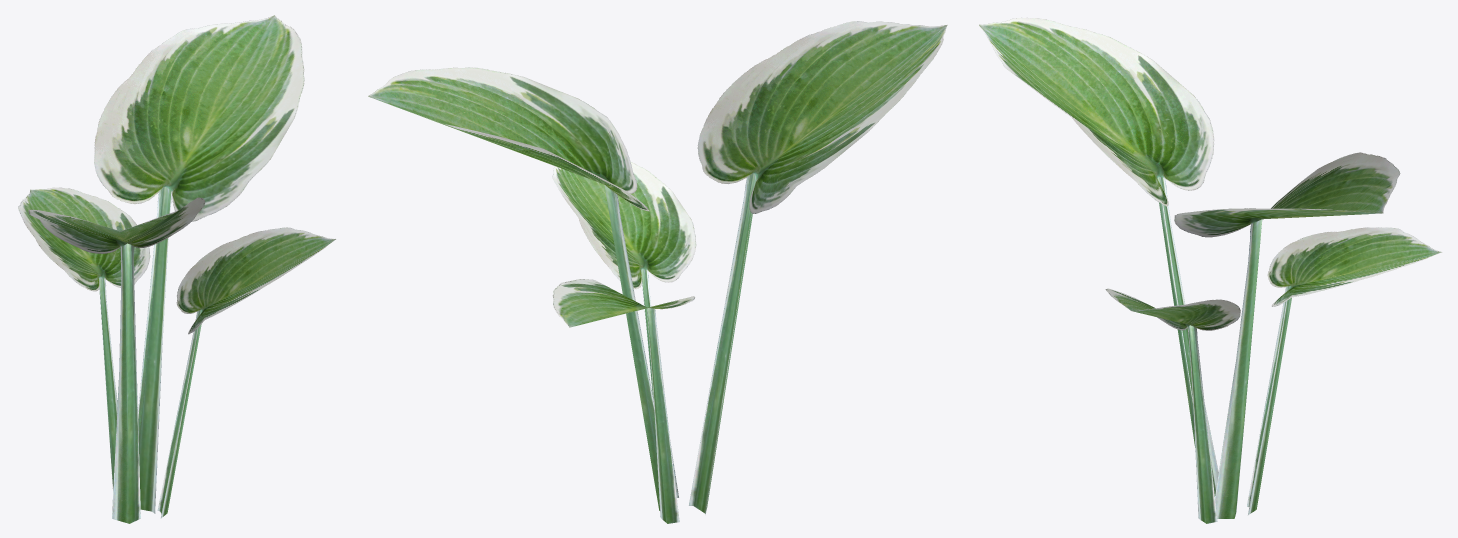
The model's file is plant_small_wg_05A.fbx.
3 views of the same model, side by side, from view 1: azimuth 30°, elevation 25°; view 2: azimuth 150°, elevation 25°; view 3: azimuth 270°, elevation 25° (orthographic). The views are drawn at different scales.
Parts seen in each view (by area): view 1: plant_small_wg_05A; view 2: plant_small_wg_05A; view 3: plant_small_wg_05A.
Boxes of the visible parts, x1,y1,x2,y2 form: plant_small_wg_05A: [18, 15, 335, 523]; plant_small_wg_05A: [368, 21, 947, 523]; plant_small_wg_05A: [979, 17, 1441, 523].
Bounding box in the file's own units: 37.68 × 39.01 × 39.26.
